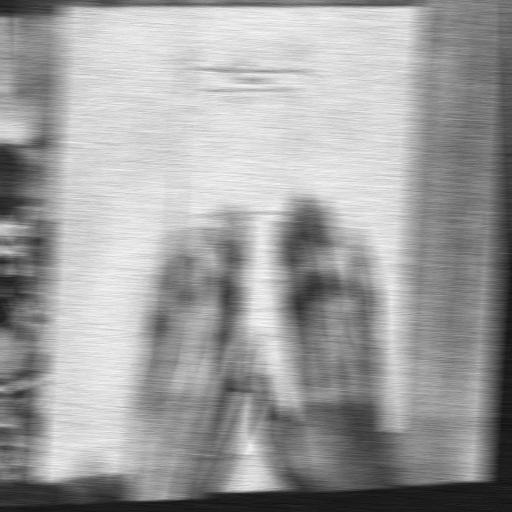bottom_left: (31, 475, 46, 488)
bottom_right: (392, 419, 406, 434)
mobile: (155, 17, 329, 427)
top_left: (56, 1, 72, 16)
top_right: (417, 0, 430, 13)
